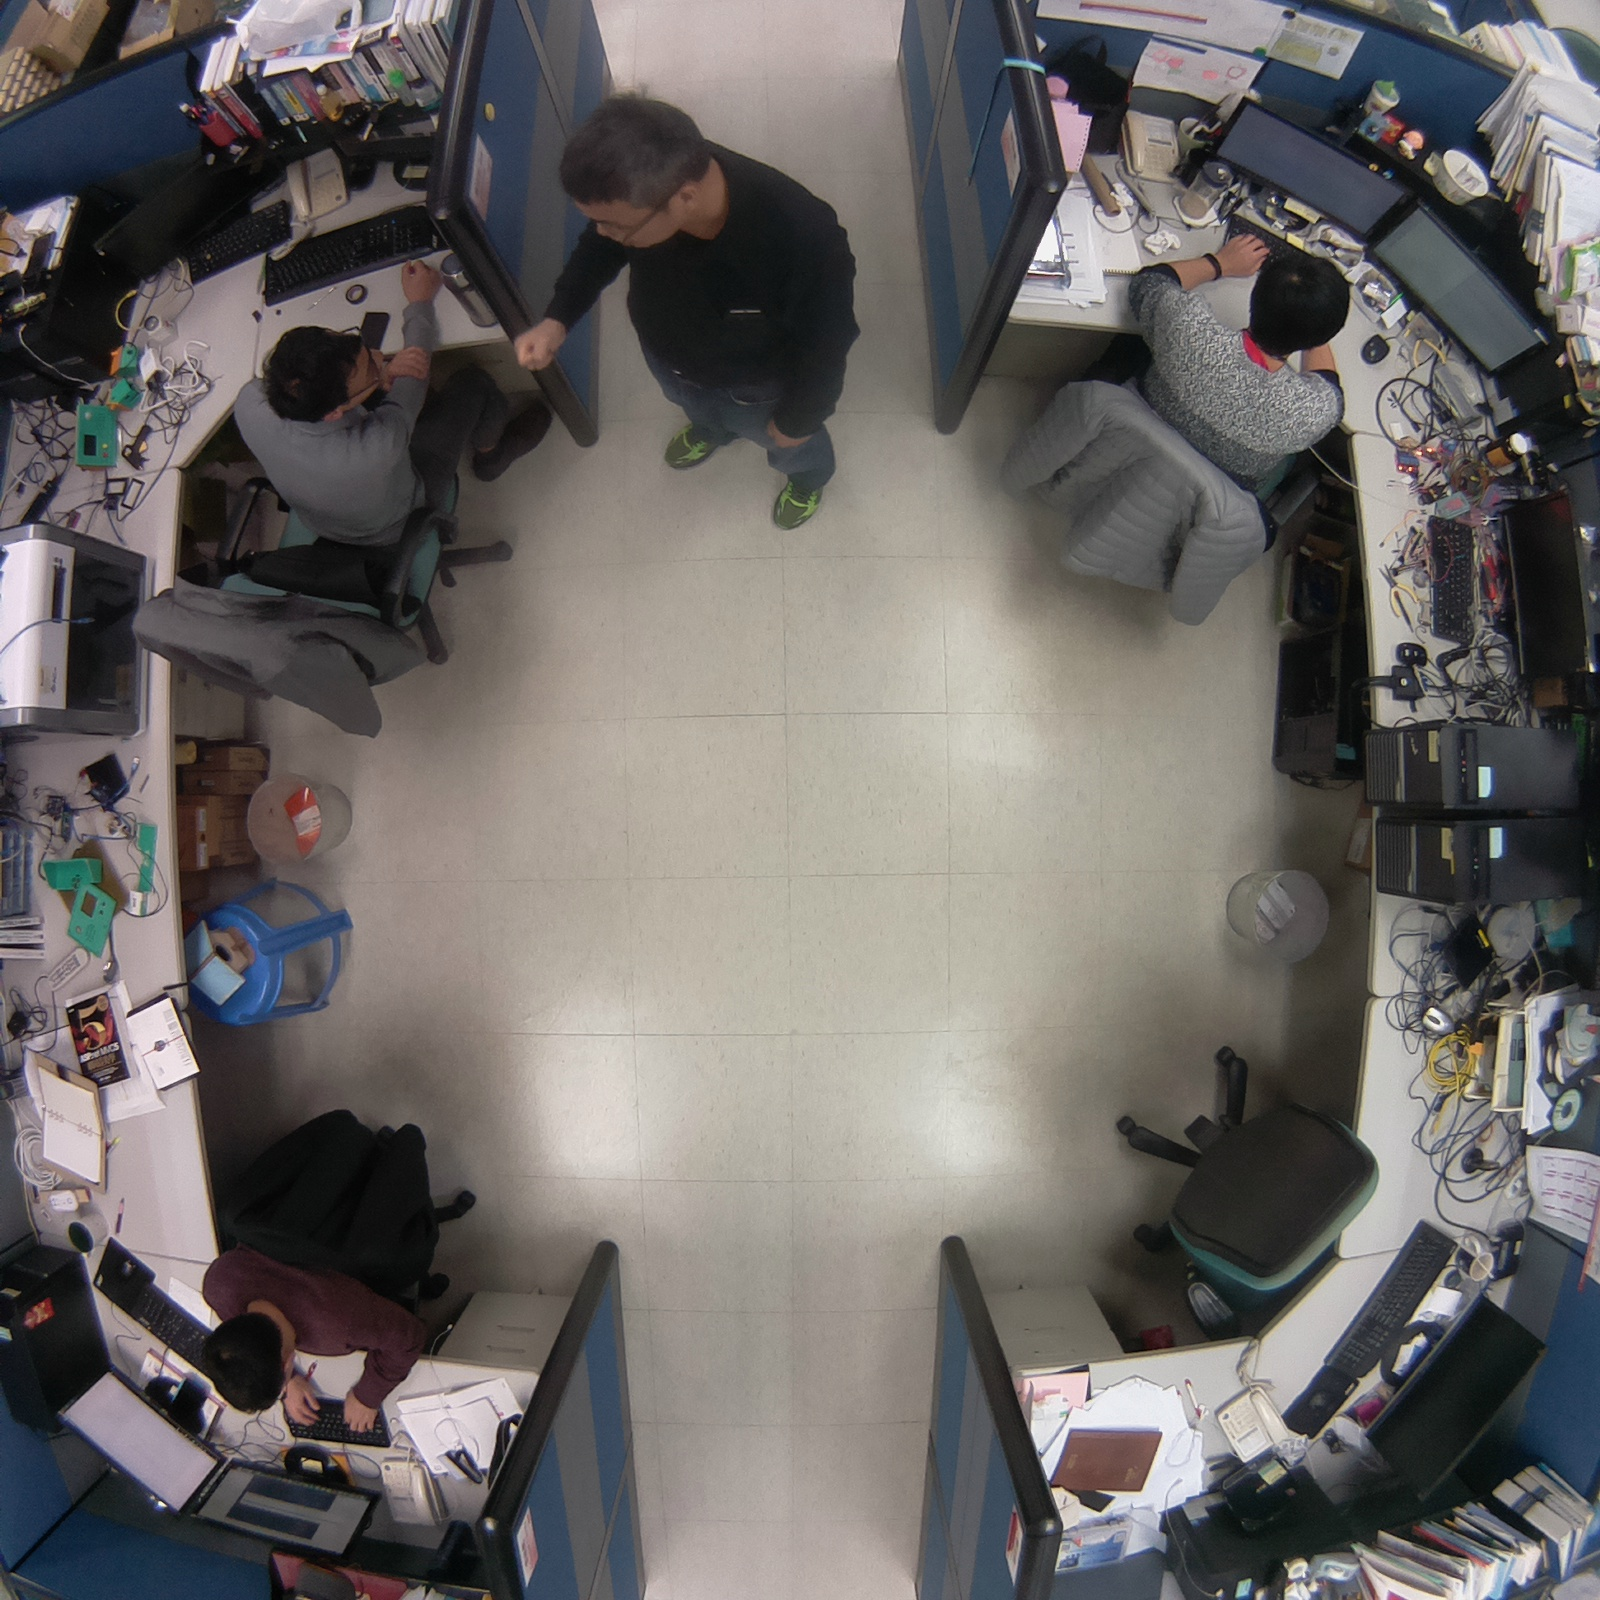chair: (1076, 1034, 1394, 1345)
head: (551, 80, 715, 257), (257, 321, 391, 431), (1240, 238, 1355, 363), (193, 1302, 300, 1419)
sitting: (117, 324, 527, 755), (981, 229, 1359, 647), (193, 1088, 496, 1435)
standing: (550, 86, 868, 537)
